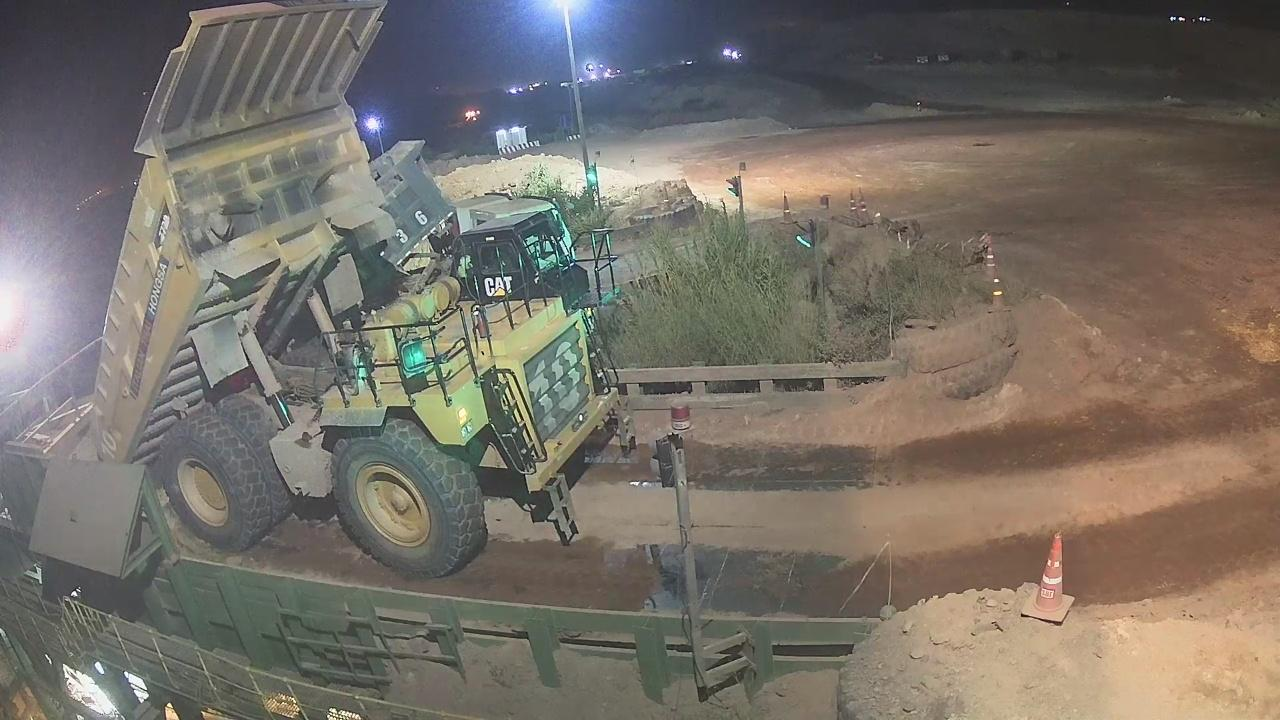company: (122, 257, 178, 408)
dumping_soil: (82, 6, 653, 597)
front_number: (518, 322, 602, 442)
tail_number: (94, 422, 123, 462)
truck_size: (147, 198, 177, 257)
